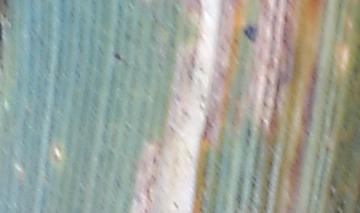tarspot: (243, 23, 257, 39), (113, 51, 122, 62)
